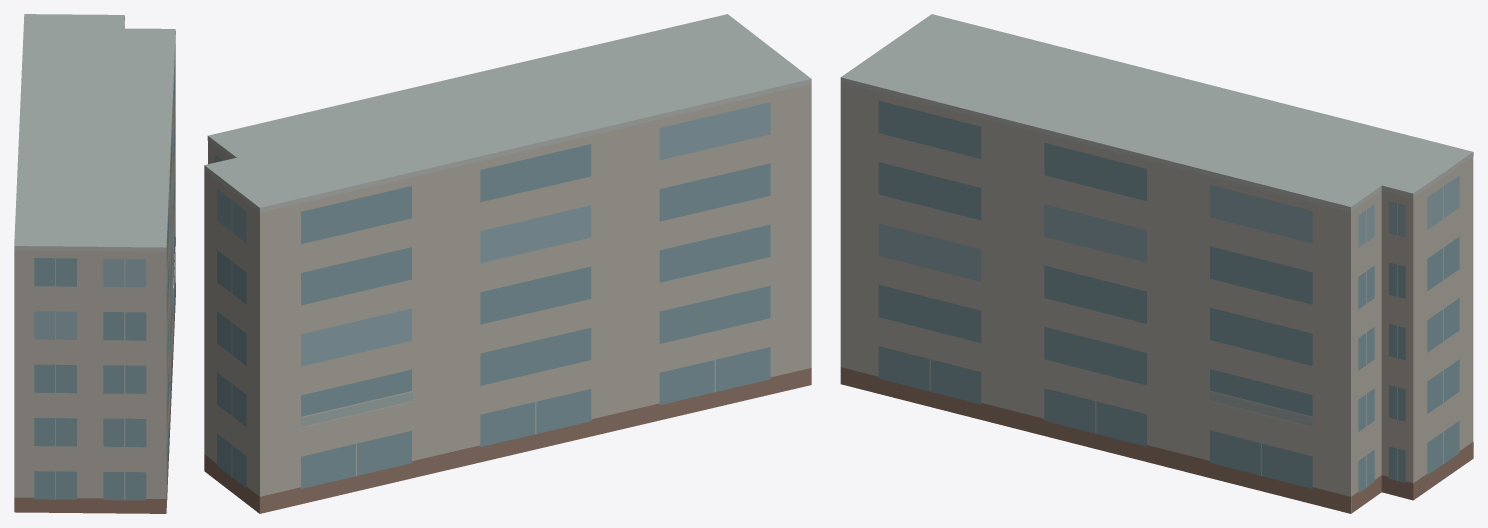
File: survey-upis-32686271.glb
The picture shows the model from 3 angles, left to right: view 1: azimuth 30°, elevation 25°; view 2: azimuth 150°, elevation 25°; view 3: azimuth 270°, elevation 25°; orthographic projection. The views are drawn at different scales.
Visible parts, largest first — view 1: survey-upis-32686271.tmp; view 2: survey-upis-32686271.tmp; view 3: survey-upis-32686271.tmp.
Part boxes in pixels (x1,y1,x2,y2): survey-upis-32686271.tmp: (14, 14, 175, 513); survey-upis-32686271.tmp: (204, 14, 811, 513); survey-upis-32686271.tmp: (840, 14, 1473, 513).
Bounding box in the file's own units: 20.32 × 15.05 × 28.14.
